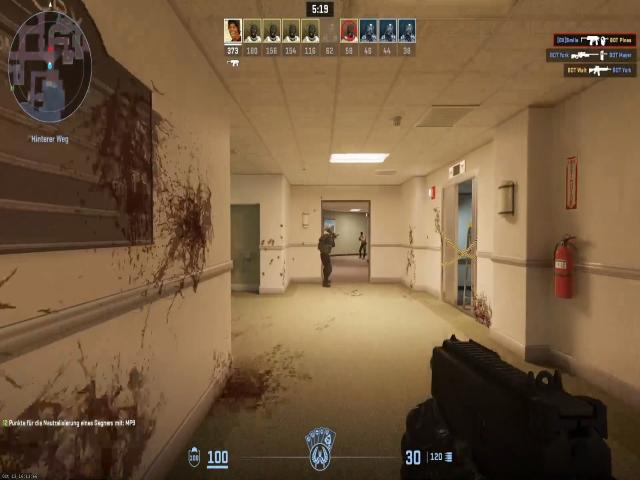CT: (314, 218, 336, 284)
CT-Head: (324, 225, 333, 238)
T: (358, 229, 368, 258)
T-Head: (360, 231, 366, 239)
